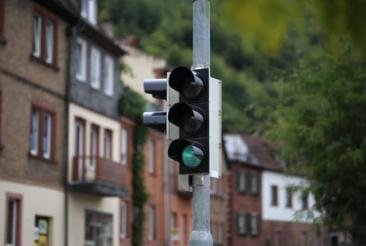green_light: (168, 67, 209, 175)
